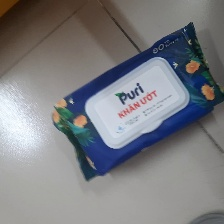Puri Xanh: (49, 22, 224, 181)
